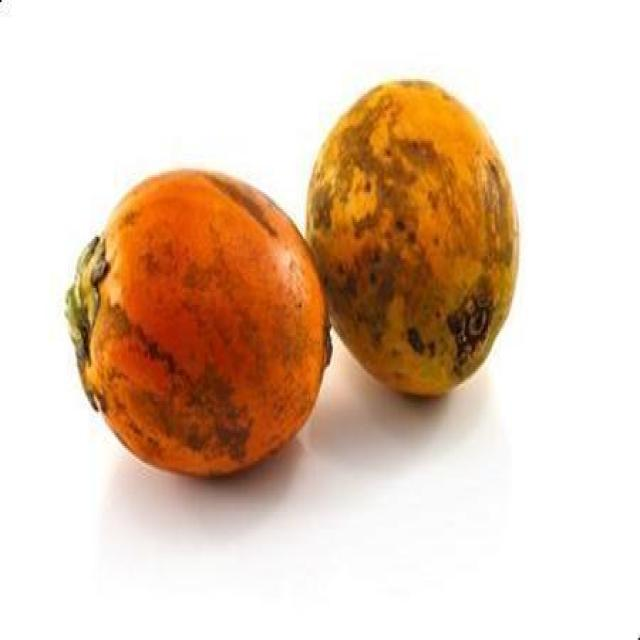good: (67, 171, 331, 480), (303, 81, 521, 401)
